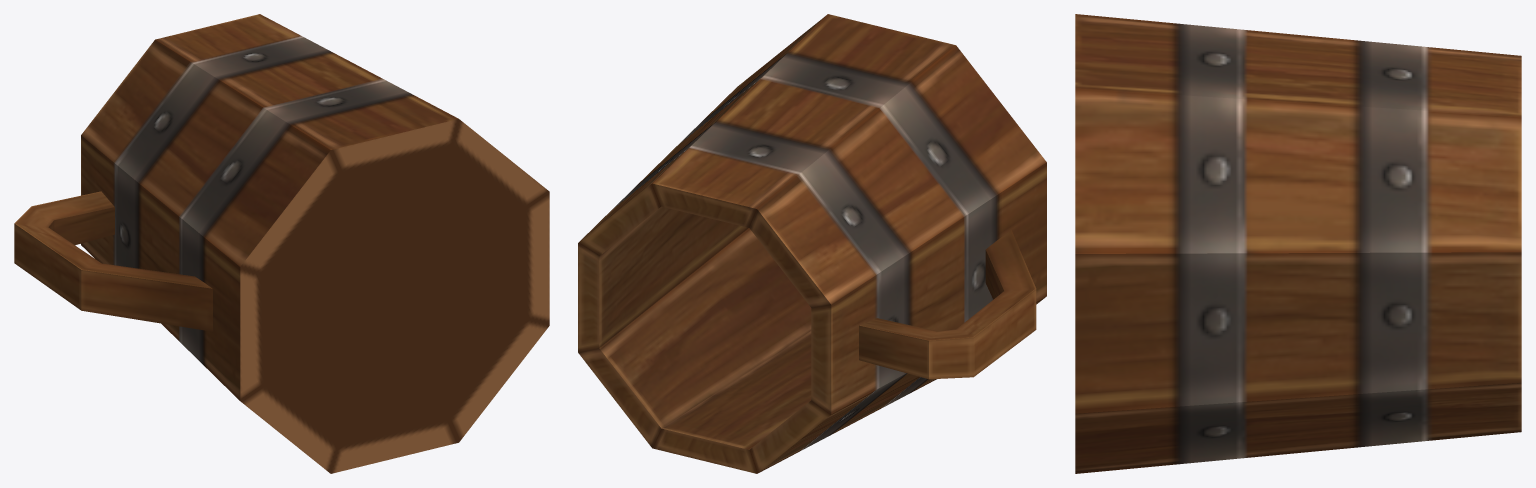
Rendered from Food_cup1.fbx.
The picture shows the model from 3 angles, left to right: view 1: azimuth 30°, elevation 25°; view 2: azimuth 150°, elevation 25°; view 3: azimuth 270°, elevation 25°; orthographic projection. The views are drawn at different scales.
Parts seen in each view (by area): view 1: Food_cup1; view 2: Food_cup1; view 3: Food_cup1.
Boxes of the visible parts, x1=… form: Food_cup1: x1=14, y1=14, x2=549, y2=473; Food_cup1: x1=578, y1=14, x2=1046, y2=473; Food_cup1: x1=1075, y1=14, x2=1521, y2=473.
Size of the model in its own units: 0.2239 by 0.1796 by 0.1884.
